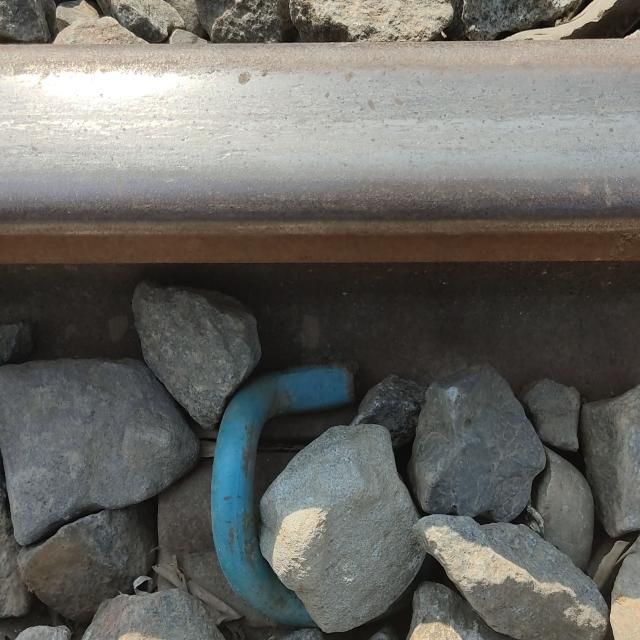Good Fasteners: (158, 365, 357, 626)
